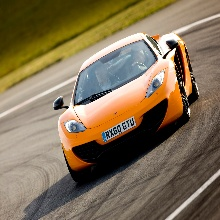no damage: (53, 31, 200, 188)
